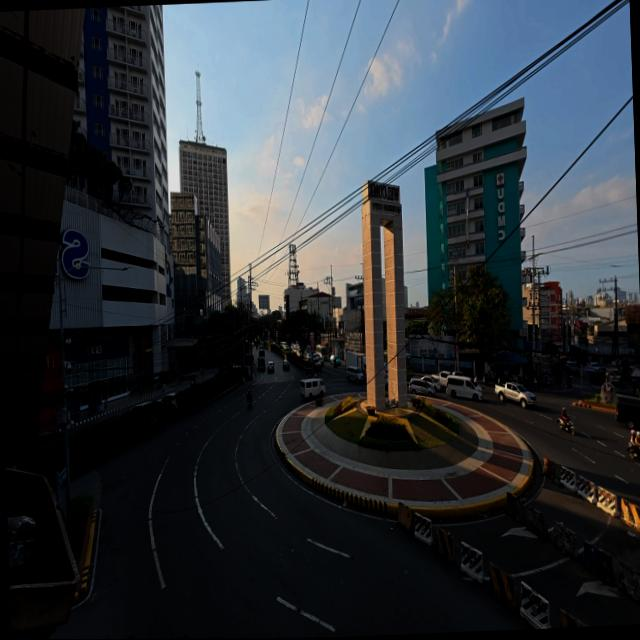Jeepneys: (257, 355, 264, 371)
car: (407, 378, 432, 396), (158, 393, 176, 411), (420, 376, 435, 396), (426, 376, 444, 392), (605, 369, 619, 384), (438, 371, 451, 387), (131, 401, 151, 411), (566, 361, 579, 376), (313, 355, 323, 367), (312, 359, 321, 371), (588, 363, 601, 371), (452, 372, 466, 378), (266, 361, 273, 372), (282, 360, 288, 371), (637, 391, 639, 397)
motorcycle: (557, 412, 574, 435), (626, 441, 639, 459), (566, 377, 571, 389), (246, 393, 250, 408)
trucks: (494, 382, 535, 408), (345, 350, 365, 374)
vans: (446, 375, 482, 401), (615, 395, 639, 429), (300, 379, 324, 399), (346, 365, 364, 382)
